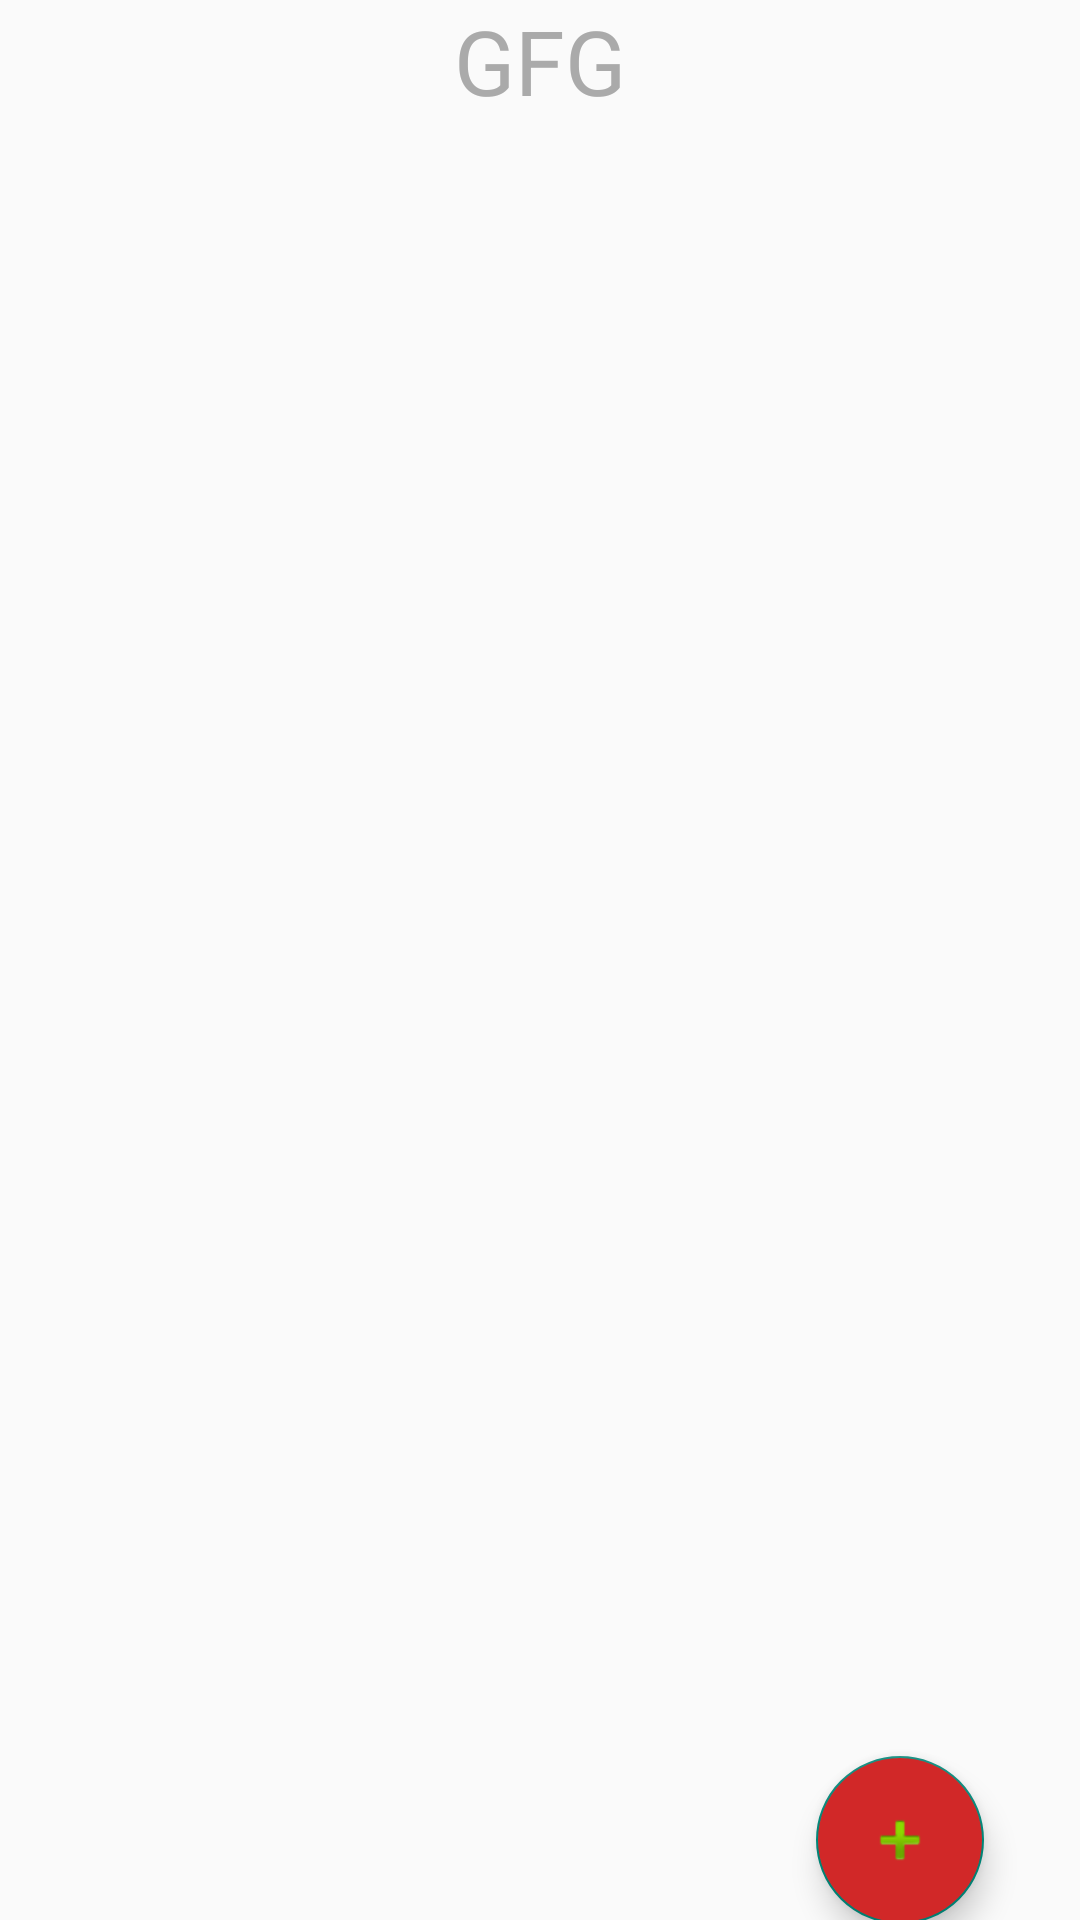

Icons on this 1080 × 1920 Android screen, each with the point to tap as [x,y]:
add: [900,1838]
